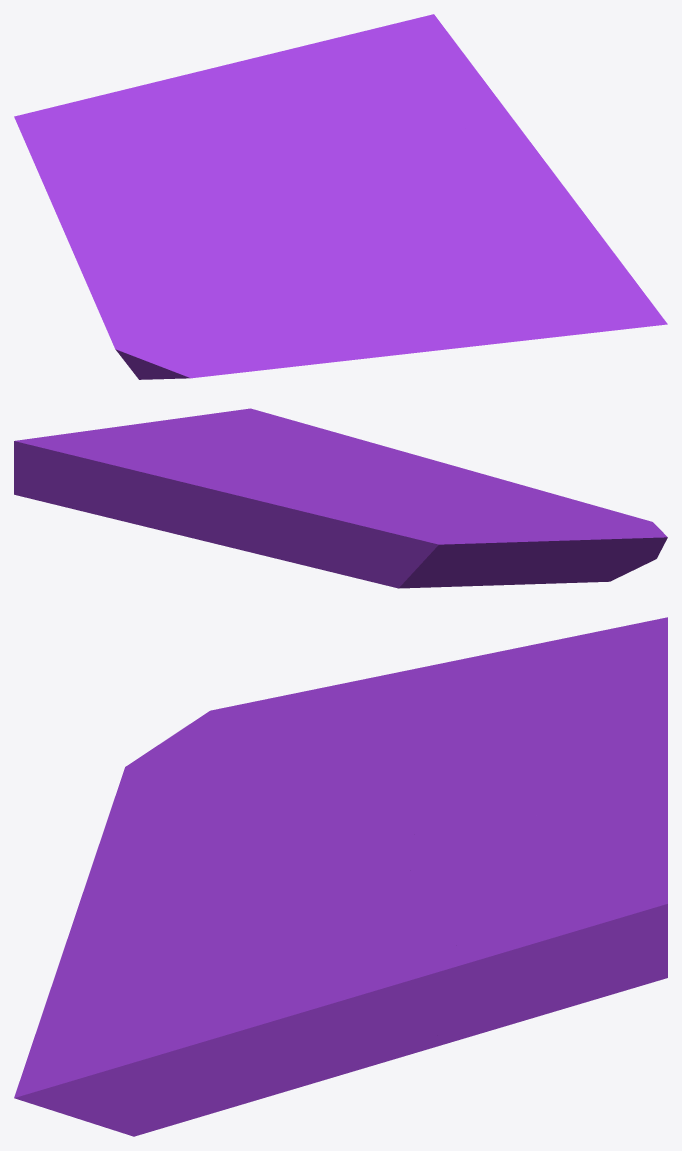
File: Window_143_3_chunks.fbx
3 renders of one model, top to bottom at view 1: azimuth 30°, elevation 25°; view 2: azimuth 150°, elevation 25°; view 3: azimuth 270°, elevation 25°, orthographic. The views are drawn at different scales.
Visible parts, largest first — view 1: Window_143_3_1, Window_143_3_0, Window_143_3_5, Window_143_3_6, Window_143_3_9, Window_143_3_7, Window_143_3_11, Window_143_3_2, Window_143_3_4, Window_143_3_12; view 2: Window_143_3_1, Window_143_3_5, Window_143_3_0, Window_143_3_2, Window_143_3_6, Window_143_3_9, Window_143_3_7, Window_143_3_11, Window_143_3_4, Window_143_3_12; view 3: Window_143_3_1, Window_143_3_5, Window_143_3_0, Window_143_3_11, Window_143_3_9, Window_143_3_6, Window_143_3_7, Window_143_3_2, Window_143_3_4, Window_143_3_10, Window_143_3_12, Window_143_3_3.
Part boxes in pixels (x1=…): Window_143_3_1: x1=14, y1=79, x2=302, y2=263; Window_143_3_0: x1=78, y1=249, x2=358, y2=379; Window_143_3_5: x1=208, y1=14, x2=504, y2=140; Window_143_3_6: x1=286, y1=242, x2=549, y2=359; Window_143_3_9: x1=486, y1=213, x2=667, y2=337; Window_143_3_7: x1=284, y1=132, x2=457, y2=252; Window_143_3_11: x1=434, y1=109, x2=583, y2=224; Window_143_3_2: x1=168, y1=69, x2=322, y2=204; Window_143_3_4: x1=309, y1=108, x2=505, y2=201; Window_143_3_12: x1=418, y1=198, x2=489, y2=291; Window_143_3_1: x1=283, y1=484, x2=583, y2=588; Window_143_3_5: x1=14, y1=431, x2=253, y2=543; Window_143_3_0: x1=423, y1=482, x2=667, y2=585; Window_143_3_2: x1=217, y1=475, x2=357, y2=578; Window_143_3_6: x1=320, y1=436, x2=510, y2=491; Window_143_3_9: x1=166, y1=408, x2=349, y2=447; Window_143_3_7: x1=150, y1=443, x2=423, y2=491; Window_143_3_11: x1=87, y1=420, x2=250, y2=453; Window_143_3_4: x1=86, y1=431, x2=340, y2=482; Window_143_3_12: x1=247, y1=442, x2=334, y2=460; Window_143_3_1: x1=314, y1=617, x2=667, y2=829; Window_143_3_5: x1=470, y1=750, x2=667, y2=1010; Window_143_3_0: x1=86, y1=676, x2=377, y2=883; Window_143_3_11: x1=247, y1=921, x2=466, y2=1083; Window_143_3_9: x1=14, y1=963, x2=267, y2=1118; Window_143_3_6: x1=41, y1=822, x2=306, y2=1016; Window_143_3_7: x1=268, y1=820, x2=447, y2=931; Window_143_3_2: x1=385, y1=722, x2=667, y2=837; Window_143_3_4: x1=388, y1=833, x2=496, y2=1047; Window_143_3_10: x1=79, y1=1045, x2=310, y2=1136; Window_143_3_12: x1=151, y1=914, x2=339, y2=967; Window_143_3_3: x1=479, y1=1008, x2=556, y2=1033.
Size of the model in its own units: 953 by 315 by 800.
